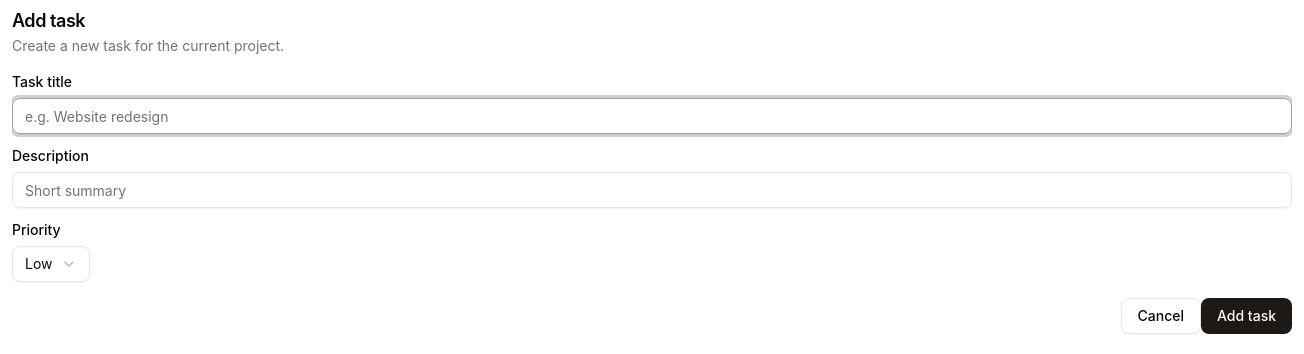
Test: TaskForm tests › should reset form after submit
Step 1. Type "new task" into the field labelled "Task title" → (652, 116), box [12,98,1292,134]
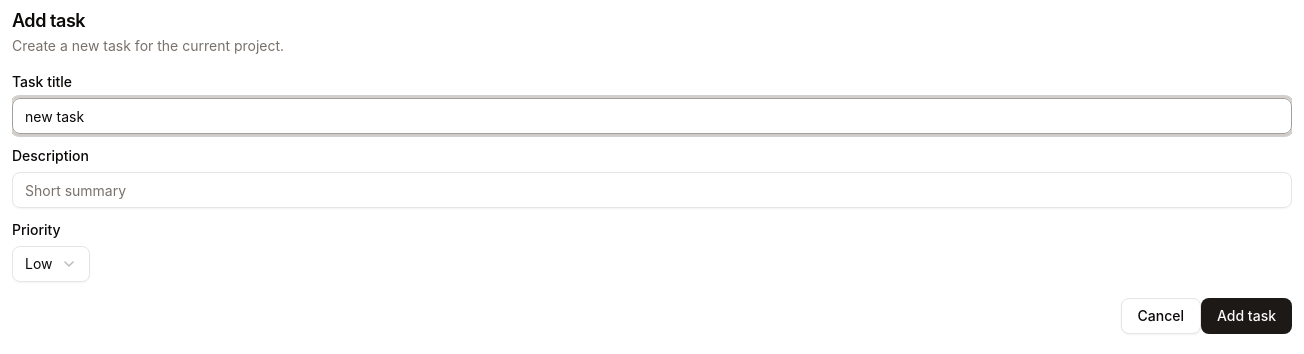
Step 2. Type "new description" into the field labelled "Description" → (652, 190), box [12,172,1292,208]
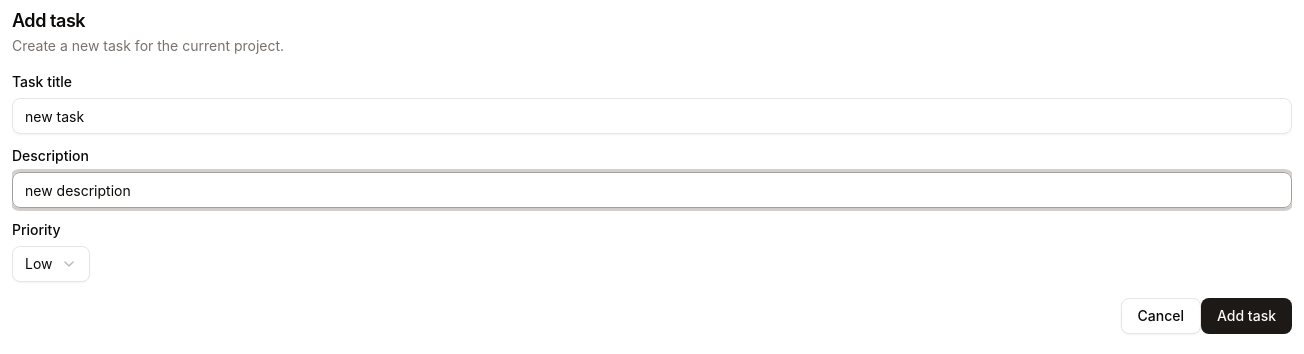
Step 3. Click the dropdown → (51, 264), box [12,246,90,282]
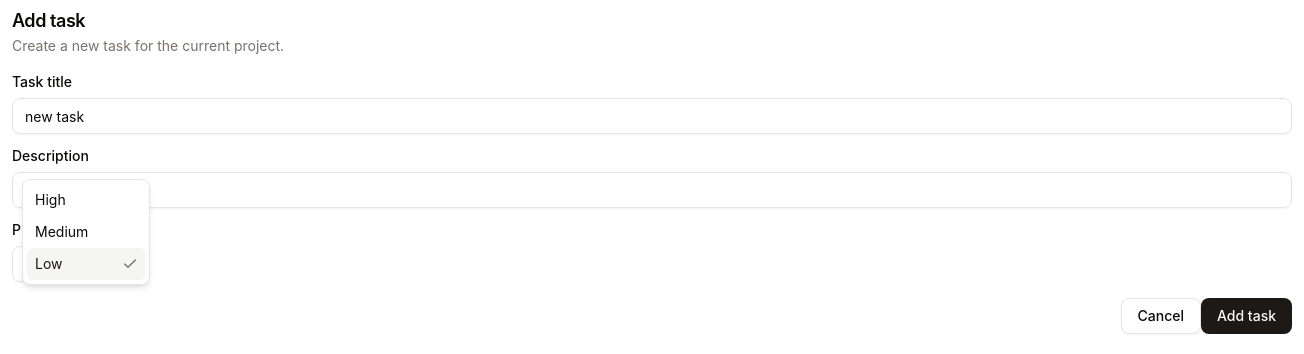
Step 4. Click the option "High" → (50, 200), box [35,191,66,208]
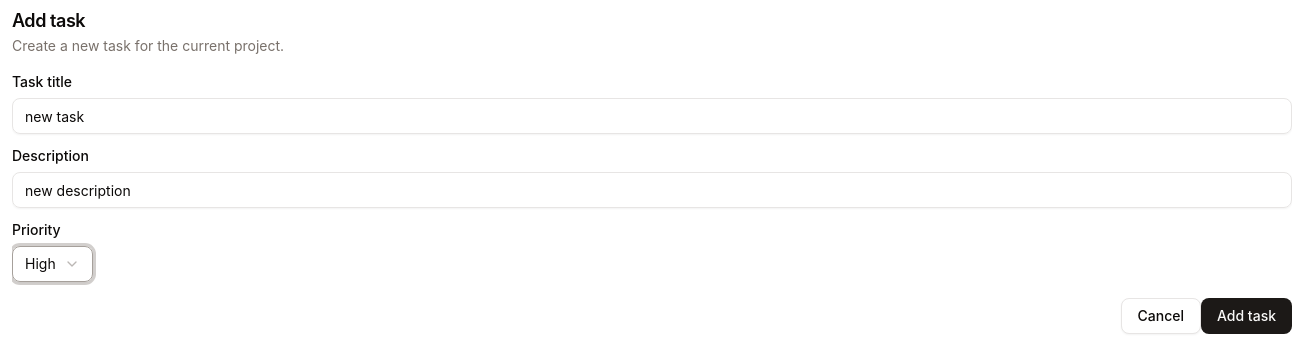
Step 5. Click the button "Add task" → (1246, 316), box [1201,298,1292,334]
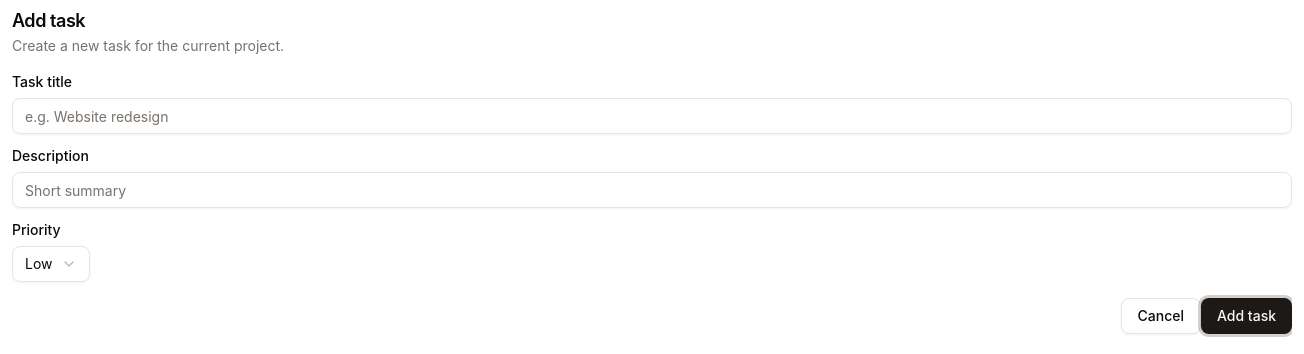
Expected: the field labelled "Task title" is empty, [12,98,1292,134]
Expected: the field labelled "Description" is empty, [12,172,1292,208]
Expected: the dropdown reads "Low", [12,246,90,282]
